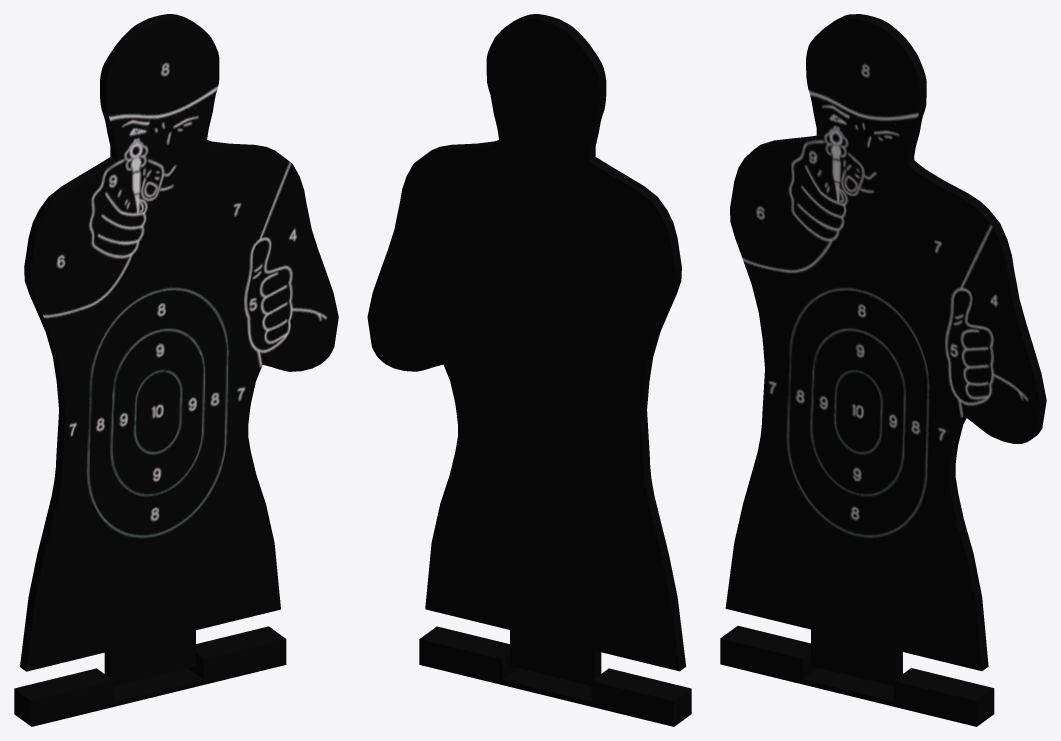
File: cible_homme.fbx
3 views of the same model, side by side, from view 1: azimuth 30°, elevation 25°; view 2: azimuth 150°, elevation 25°; view 3: azimuth 330°, elevation 25° (orthographic).
Parts seen in each view (by area): view 1: Cube; view 2: Cube; view 3: Cube.
Part boxes in pixels (box(x1,y1,x2,y2)): Cube: box(14, 14, 338, 726); Cube: box(367, 14, 691, 726); Cube: box(720, 14, 1046, 726).
Bounding box in the file's own units: 1.54 × 3.15 × 0.149.
1 material, 1 textured.
